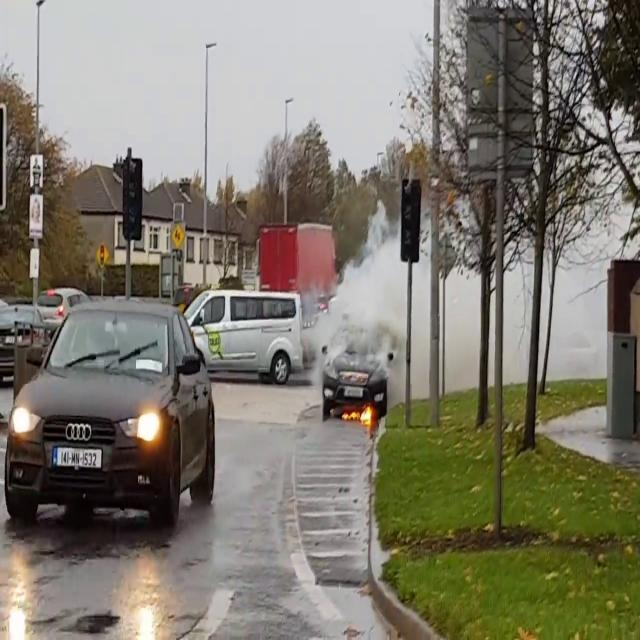Fire: (342, 394, 377, 429)
Smoke: (311, 200, 425, 382)
